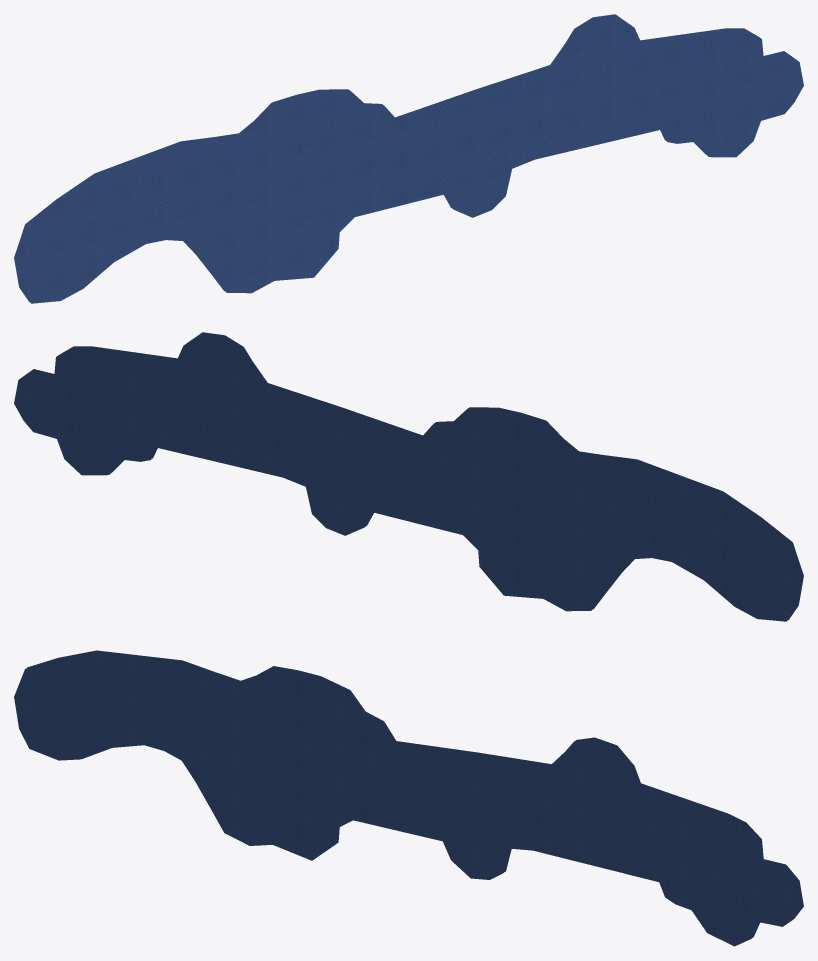
File: floor_32.obj
The picture shows the model from 3 angles, top to bottom: view 1: azimuth 30°, elevation 25°; view 2: azimuth 150°, elevation 25°; view 3: azimuth 330°, elevation 25°; orthographic projection.
Visible parts, largest first — view 1: floor_32; view 2: floor_32; view 3: floor_32.
Part boxes in pixels (x1,y1,x2,y2): floor_32: (14,14,803,303); floor_32: (14,332,803,621); floor_32: (14,650,803,946).
Size of the model in its own units: 22.86 by 5.29 by 0.1.
1 material, 1 textured.
